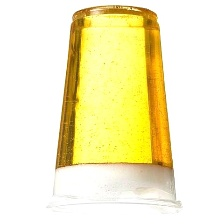glass: (43, 0, 190, 219)
